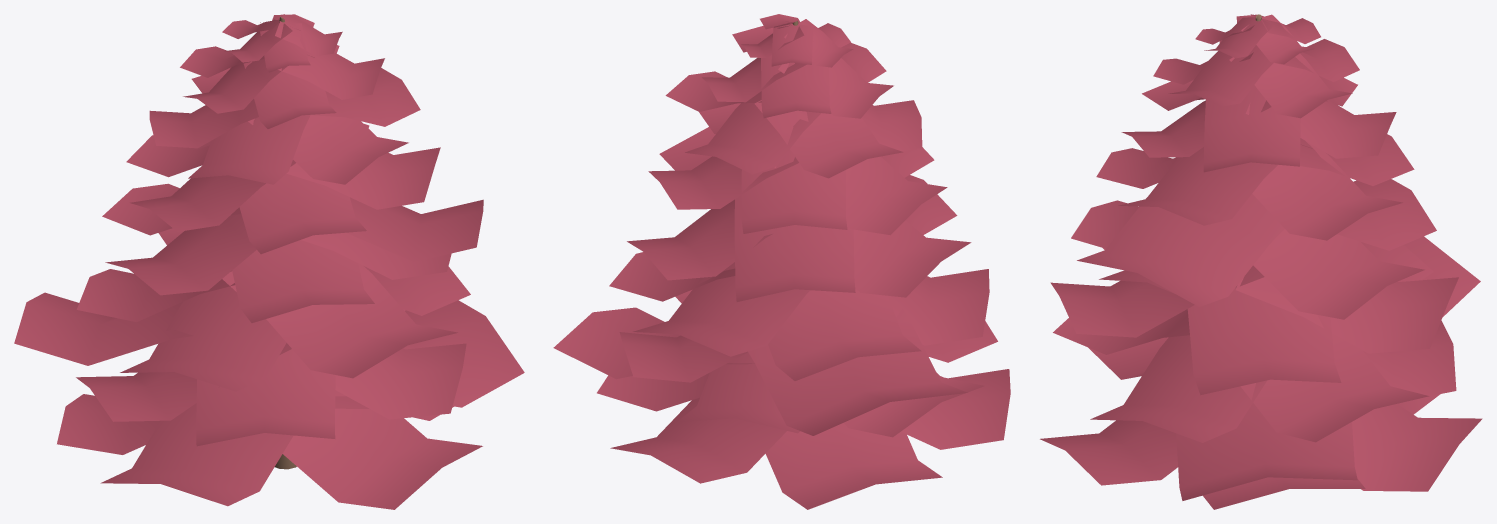
The model's file is Pine_1.glb.
3 views of the same model, side by side, from view 1: azimuth 30°, elevation 25°; view 2: azimuth 150°, elevation 25°; view 3: azimuth 270°, elevation 25° (orthographic). The views are drawn at different scales.
Parts seen in each view (by area): view 1: Pine_1; view 2: Pine_1; view 3: Pine_1.
Part boxes in pixels (x1,y1,x2,y2): Pine_1: (14,14,524,509); Pine_1: (553,14,1010,509); Pine_1: (1040,14,1482,509).
Size of the model in its own units: 7.73 by 7.58 by 6.76.
